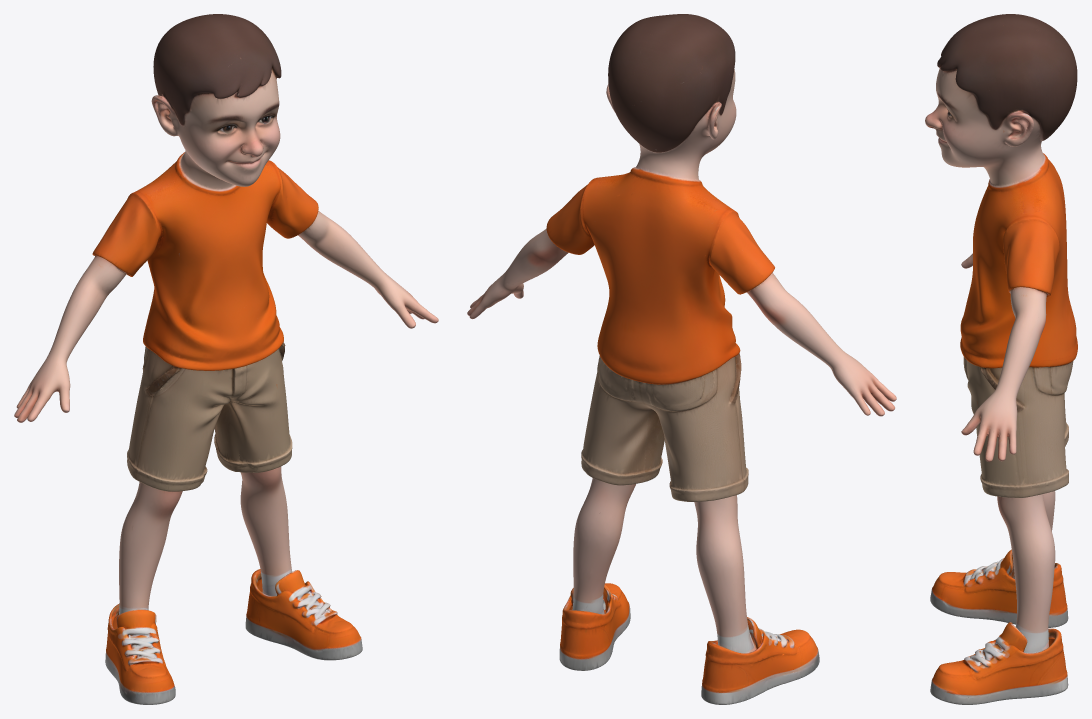
The model's file is Meshy_AI_Realistic_boy_0313144505_texture.fbx.
3 views of the same model, side by side, from view 1: azimuth 30°, elevation 25°; view 2: azimuth 150°, elevation 25°; view 3: azimuth 270°, elevation 25° (orthographic). The views are drawn at different scales.
Parts seen in each view (by area): view 1: Mesh_0; view 2: Mesh_0; view 3: Mesh_0.
Boxes of the visible parts, box(x1,y1,x2,y2) form: Mesh_0: box(14, 14, 438, 704); Mesh_0: box(467, 14, 896, 704); Mesh_0: box(925, 14, 1077, 704).
Size of the model in its own units: 137 by 200 by 43.86.
Materials: 1 (1 with a texture image).
